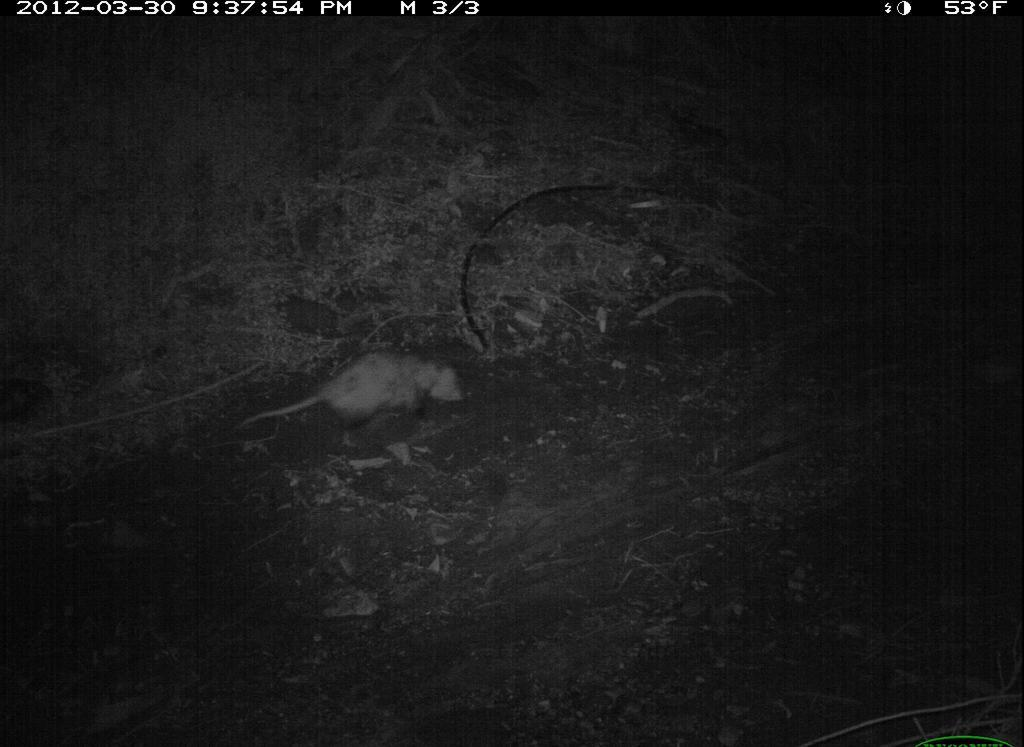opossum: (228, 342, 470, 464)
